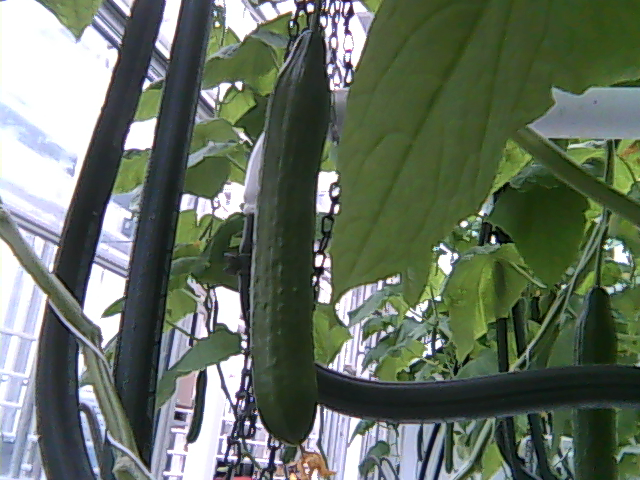concombre: (248, 20, 337, 480)
